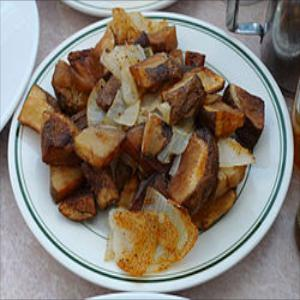fries_350cal: (31, 37, 268, 262)
